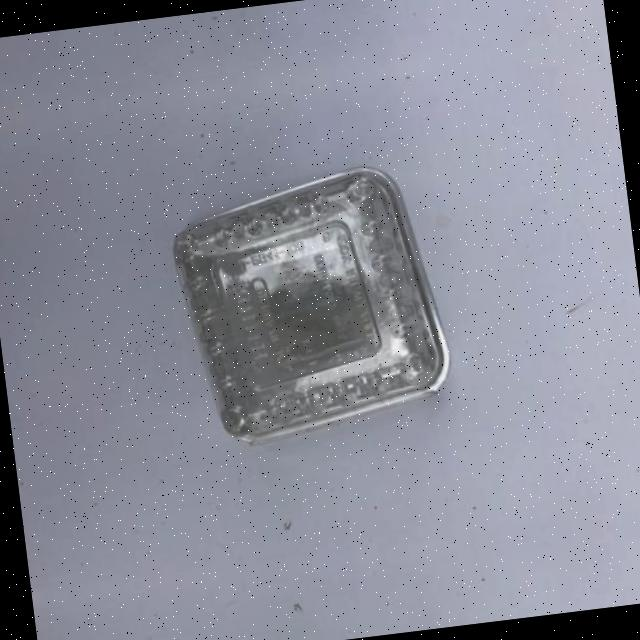Plastic: (137, 122, 490, 477), (120, 0, 437, 39)
